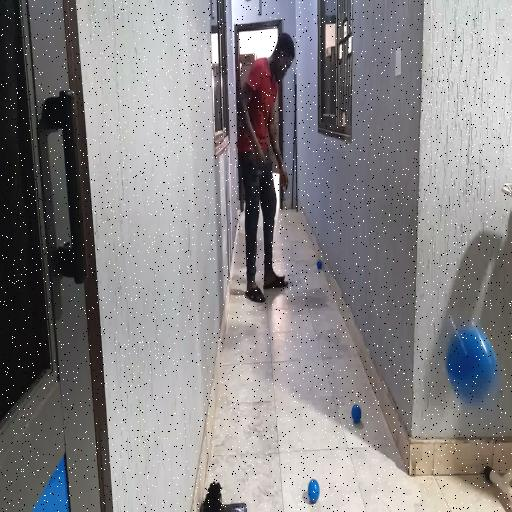plastic-ball: (445, 322, 498, 404)
